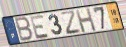3: (48, 13, 63, 37)
7: (92, 6, 106, 31)
B: (14, 16, 34, 43)
E: (29, 14, 51, 40)
H: (74, 7, 98, 34)
Z: (59, 9, 82, 36)
